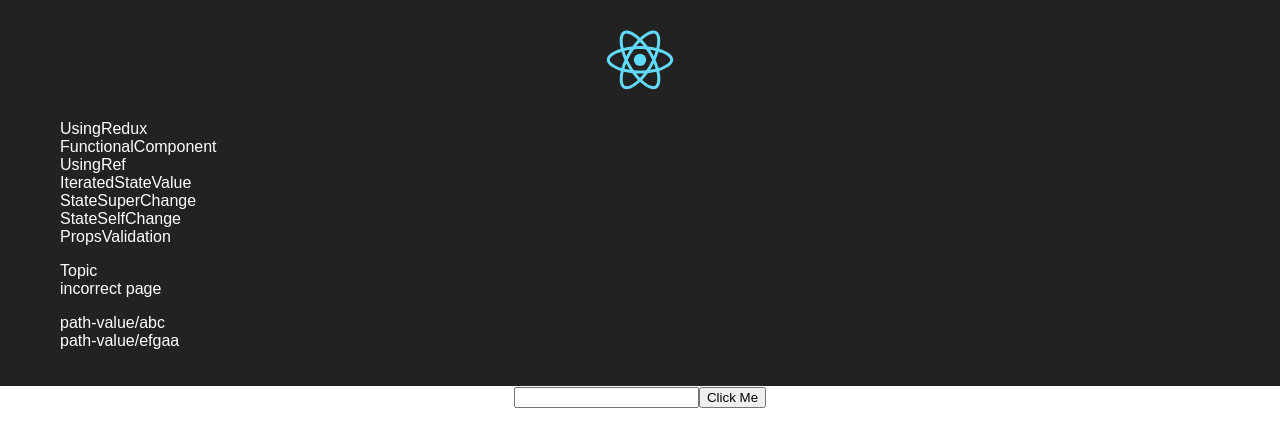
Test: keeps ref initialization and input focus
The width and height of the screenshot is (1280, 425).
Click the button "Click Me": (733, 398) [699, 387, 766, 408]
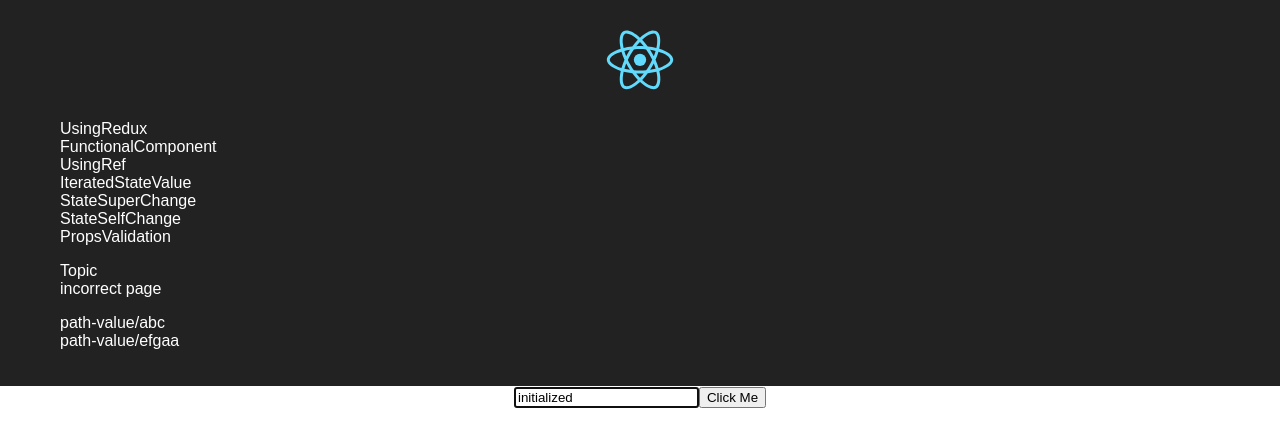
Check: the field holds "initialized", box [514, 387, 699, 408]
